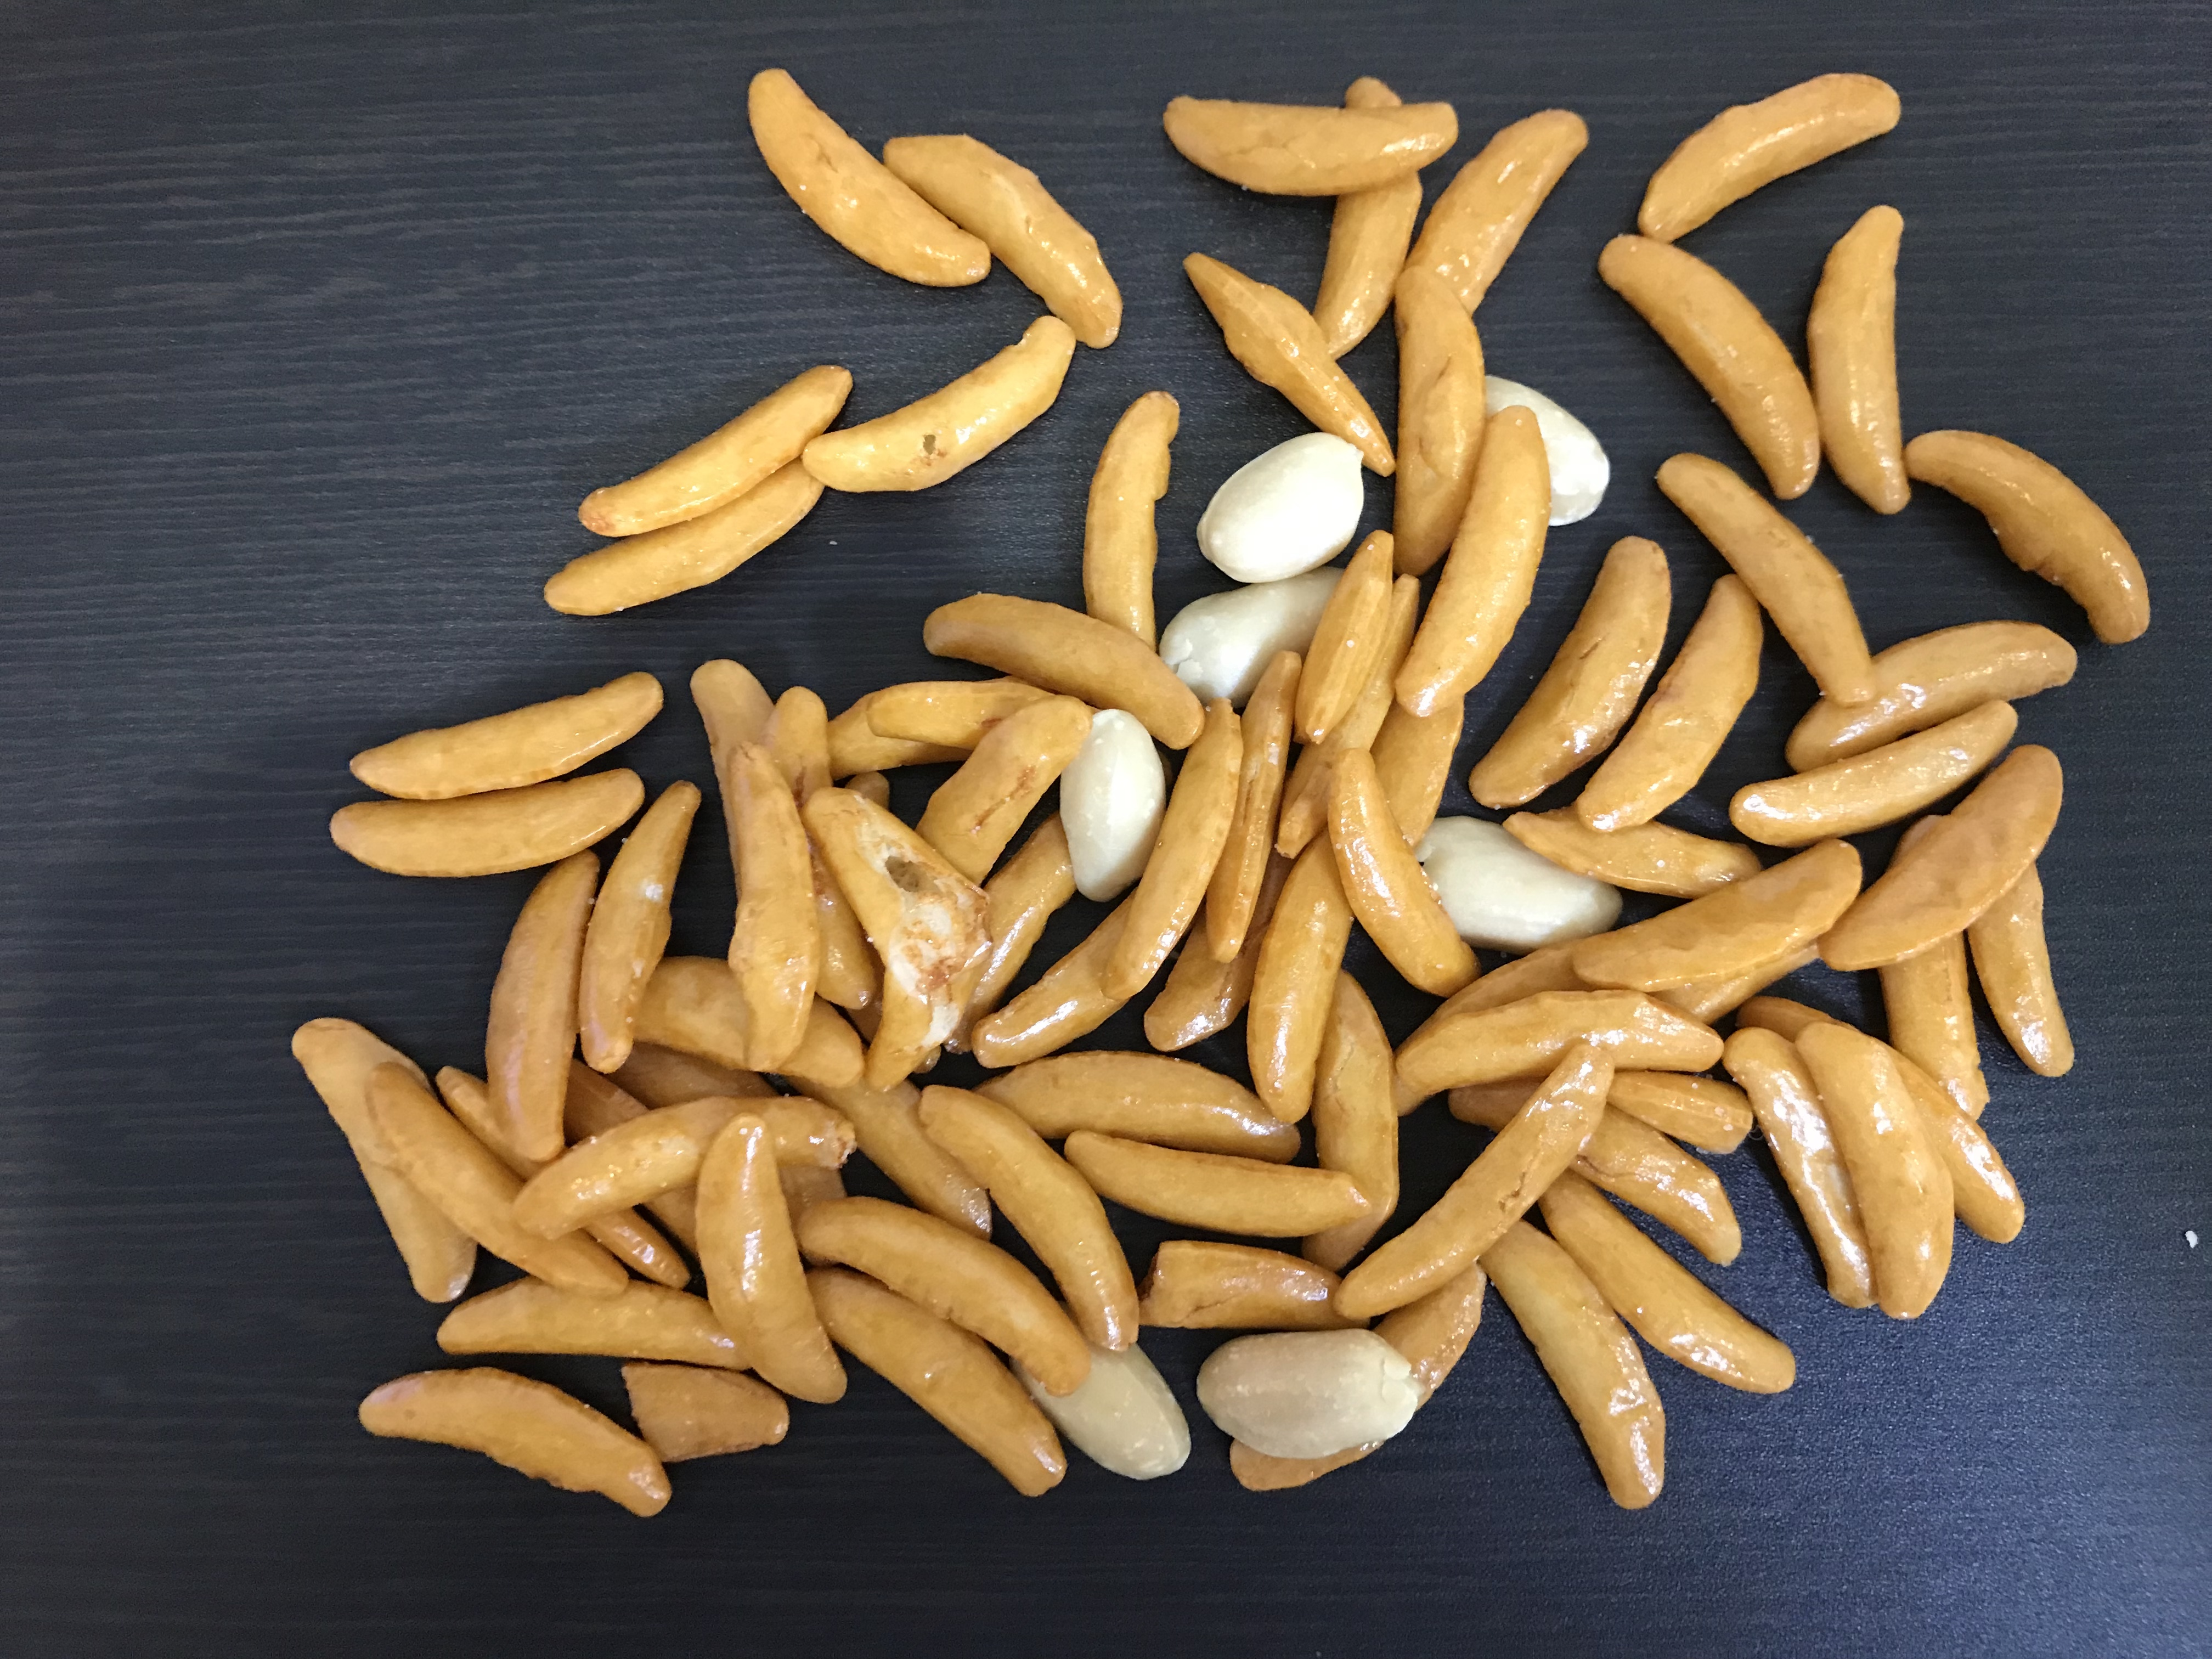peanut: (1195, 1319, 1428, 1462), (1195, 423, 1366, 598), (1407, 810, 1620, 948), (1017, 1344, 1193, 1486), (1155, 575, 1360, 688), (1057, 711, 1177, 904), (1480, 369, 1615, 538)
